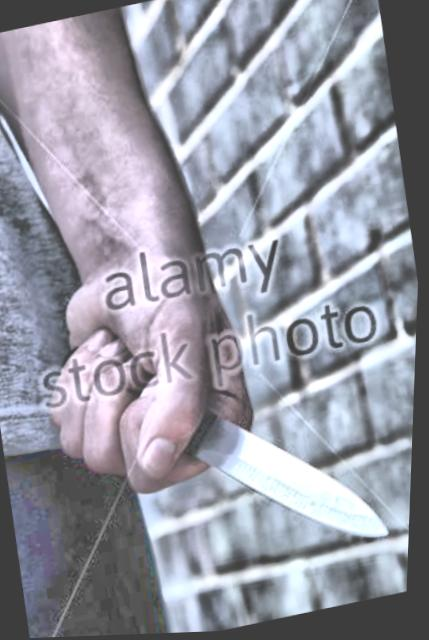knife: (48, 272, 406, 603)
